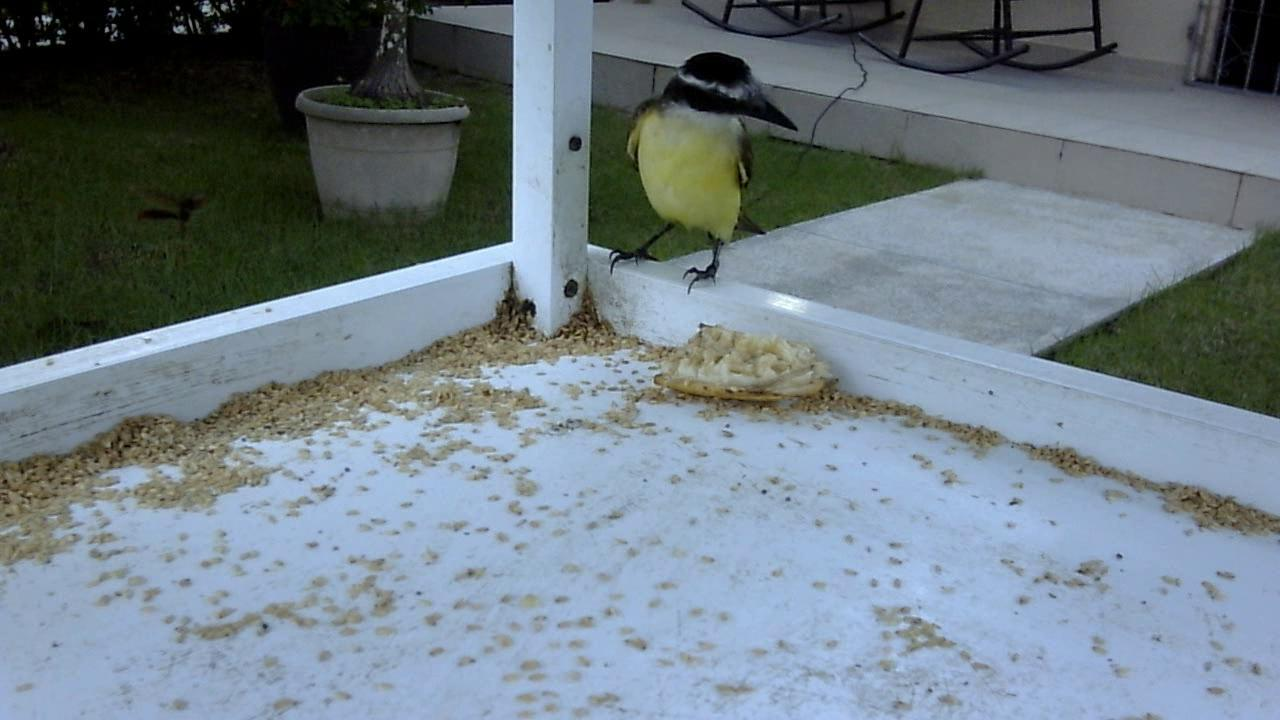bem_te_vi: (589, 39, 807, 310)
